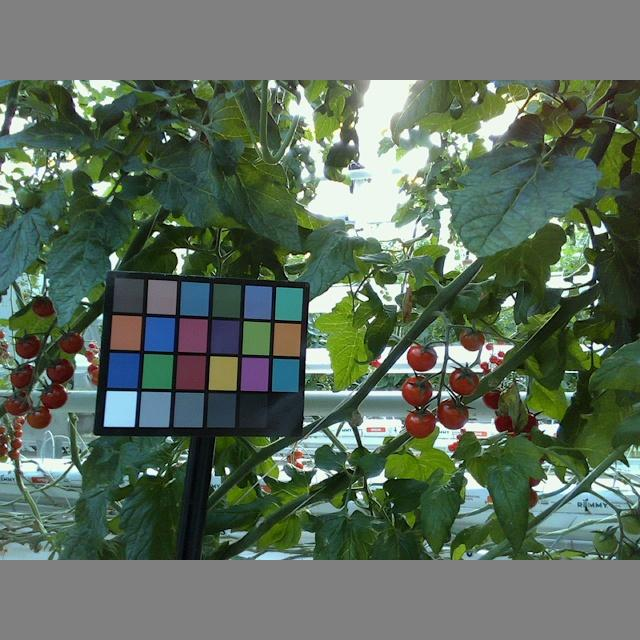red: (404, 407, 437, 440), (436, 399, 469, 430), (449, 363, 479, 397), (401, 375, 432, 407), (405, 342, 434, 370), (56, 328, 86, 354), (13, 331, 41, 357), (28, 293, 57, 318), (46, 357, 74, 382), (4, 391, 32, 416), (25, 406, 53, 430), (40, 384, 66, 409), (8, 366, 37, 387), (459, 327, 484, 350)
